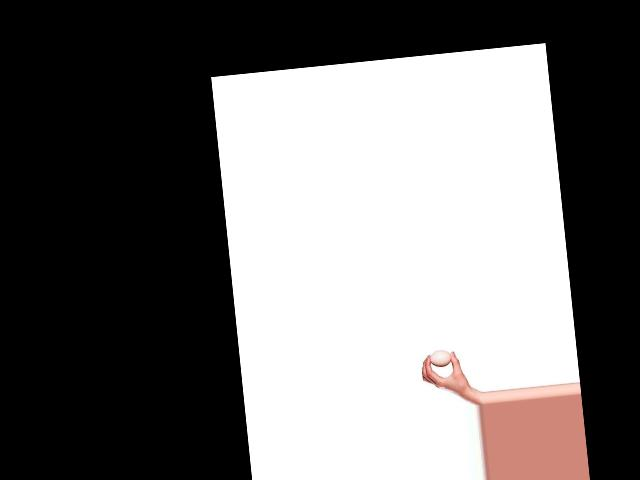egg: (429, 349, 452, 368)
